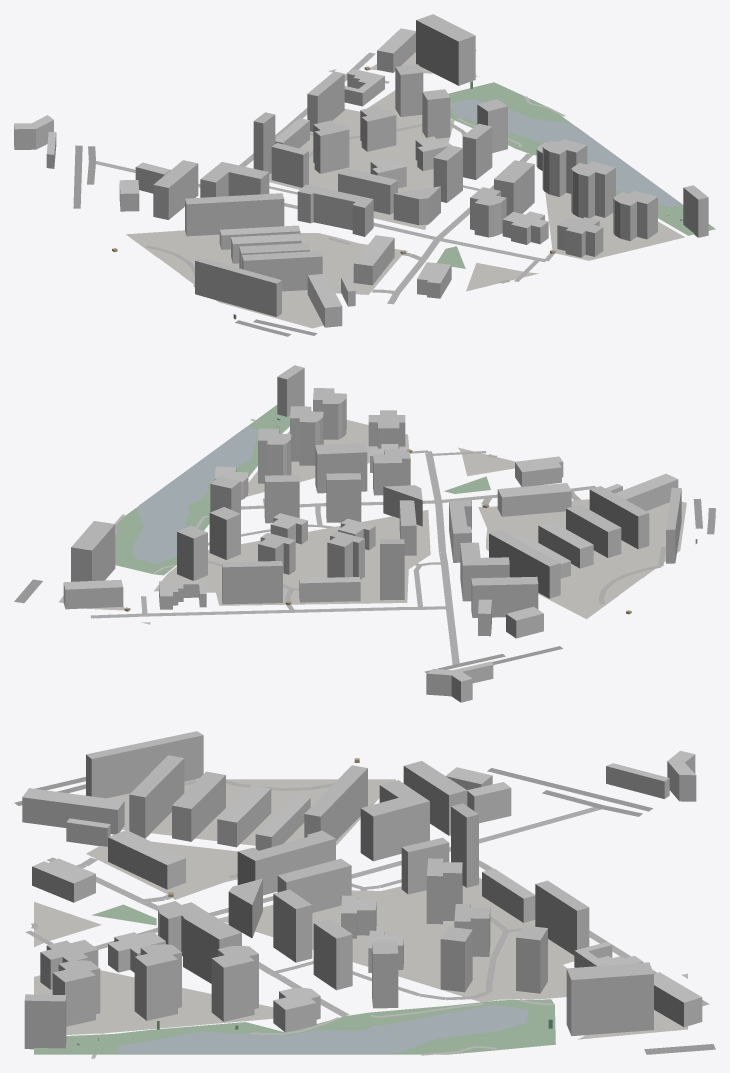
The picture shows the model from 3 angles, top to bottom: view 1: azimuth 30°, elevation 25°; view 2: azimuth 150°, elevation 25°; view 3: azimuth 270°, elevation 25°; orthographic projection. The views are drawn at different scales.
Size of the model in its own units: 537 by 65.31 by 537.
